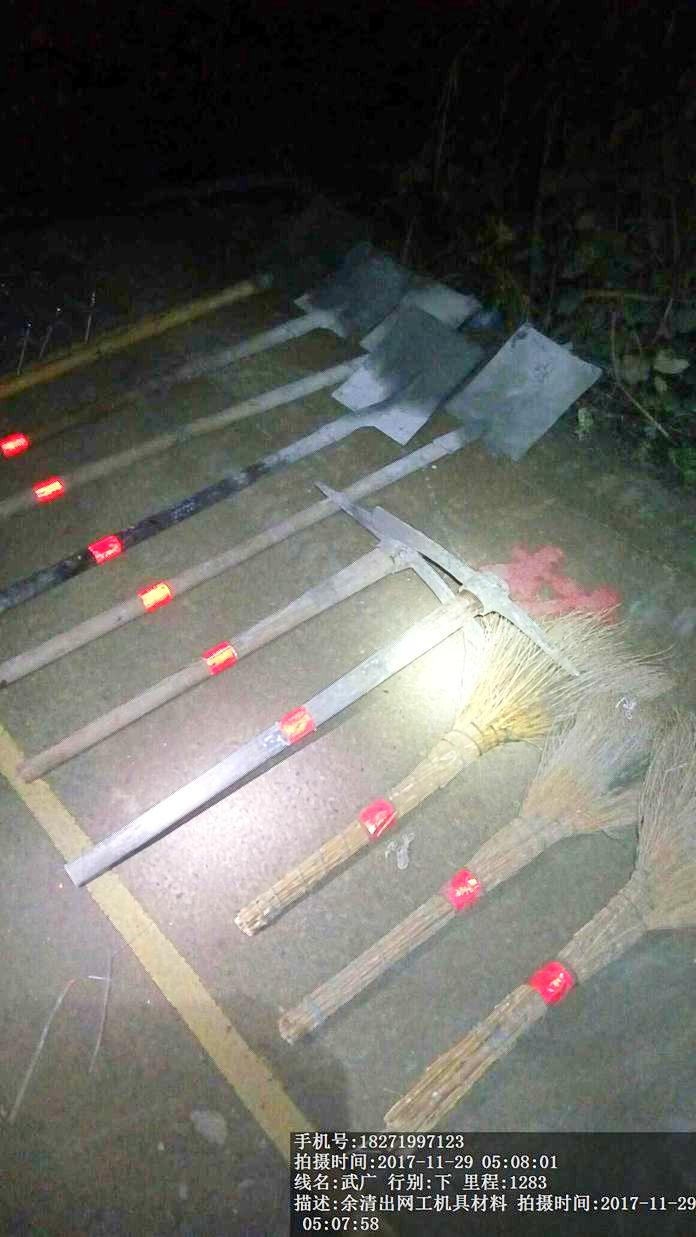SB: (219, 608, 615, 936), (411, 784, 696, 1122)
